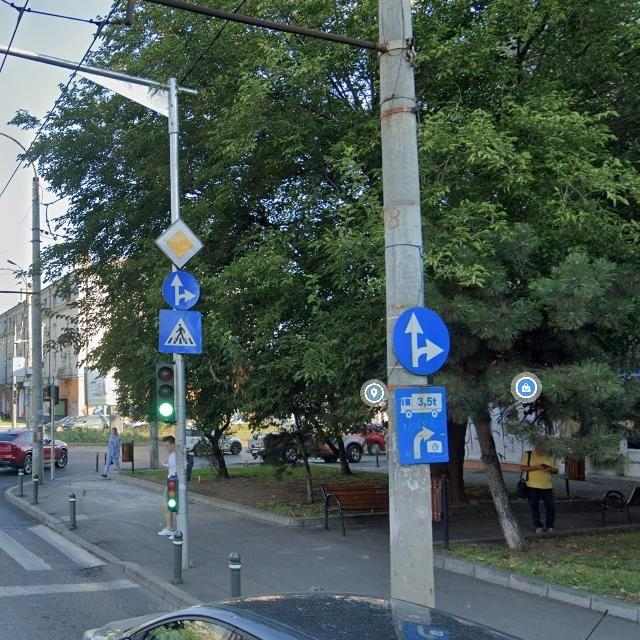info_crosswalk: (159, 308, 204, 354)
